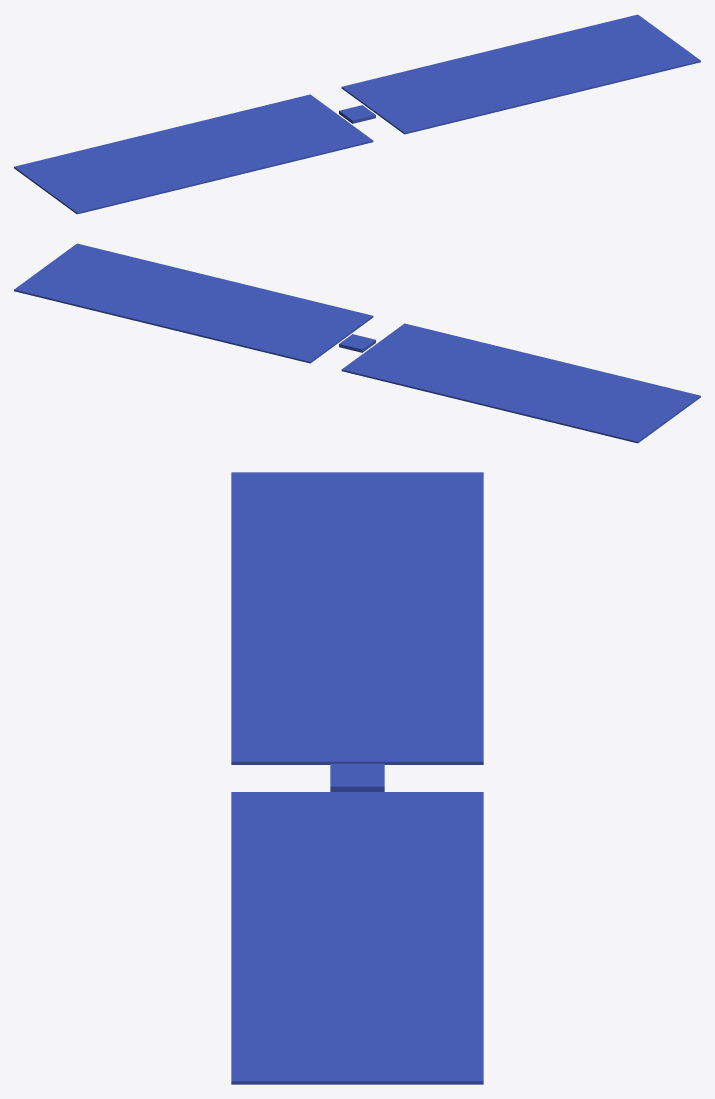
The model's file is solar.glb.
3 views of the same model, one above another, from view 1: azimuth 30°, elevation 25°; view 2: azimuth 150°, elevation 25°; view 3: azimuth 270°, elevation 25° (orthographic). The views are drawn at different scales.
Size of the model in its own units: 40 by 0.2 by 7.
